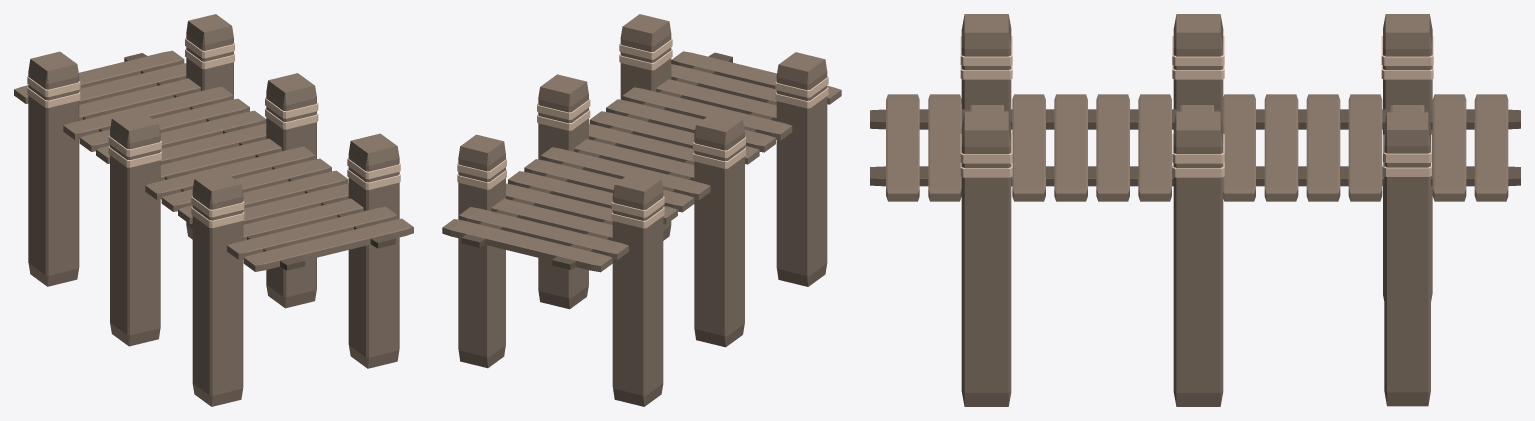
Rendered from Dock.fbx.
3 views of the same model, side by side, from view 1: azimuth 30°, elevation 25°; view 2: azimuth 150°, elevation 25°; view 3: azimuth 270°, elevation 25° (orthographic). The views are drawn at different scales.
Parts seen in each view (by area): view 1: Cube, Cube.007, Cube.006, Cube.008, Cube.004, Cube.005, Cube.003, Cube.002; view 2: Cube, Cube.006, Cube.007, Cube.008, Cube.003, Cube.005, Cube.004, Cube.002; view 3: Cube, Cube.005, Cube.004, Cube.003, Cube.007, Cube.002, Cube.008, Cube.006.
Part boxes in pixels (x1,y1,x2,y2): Cube: (14,50,413,271); Cube.007: (27,51,80,286); Cube.006: (191,171,244,406); Cube.008: (108,111,161,346); Cube.004: (347,133,400,368); Cube.005: (265,73,318,308); Cube.003: (185,14,234,239); Cube.002: (79,53,395,270); Cube: (442,51,841,272); Cube.006: (775,52,828,286); Cube.007: (611,172,664,406); Cube.008: (693,112,745,347); Cube.003: (457,134,506,368); Cube.005: (537,74,590,309); Cube.004: (619,14,672,240); Cube.002: (461,52,776,269); Cube: (886,94,1508,201); Cube.005: (1172,111,1224,406); Cube.004: (960,111,1012,406); Cube.003: (1383,112,1431,406); Cube.007: (1381,14,1433,301); Cube.002: (870,109,1520,186); Cube.008: (1172,14,1224,109); Cube.006: (960,14,1012,109).
Bounding box in the file's own units: 1143 × 1229 × 2623.
